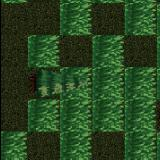Obstacle: (28, 68, 58, 100)
Slow: (92, 36, 124, 132), (59, 67, 91, 160), (124, 67, 155, 160), (58, 0, 92, 36), (124, 0, 156, 35), (26, 99, 58, 132), (28, 36, 58, 68), (0, 132, 26, 160)
